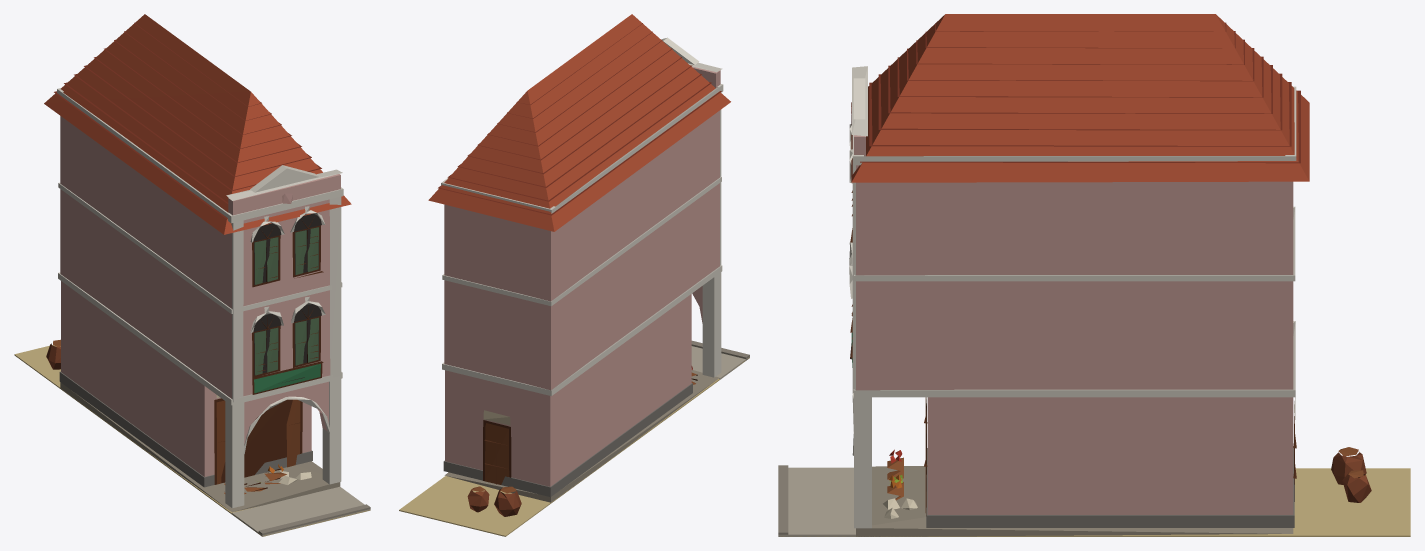
File: bay2_mid2.glb
The picture shows the model from 3 angles, left to right: view 1: azimuth 30°, elevation 25°; view 2: azimuth 150°, elevation 25°; view 3: azimuth 270°, elevation 25°; orthographic projection. The views are drawn at different scales.
Parts seen in each view (by area): view 1: body, windows; view 2: body; view 3: body.
Boxes of the visible parts, x1,y1,x2,y2 form: body: [14, 14, 370, 536]; windows: [253, 213, 321, 375]; body: [399, 14, 749, 536]; body: [778, 14, 1410, 536].
Bounding box in the file's own units: 4.75 × 13.59 × 15.9.
